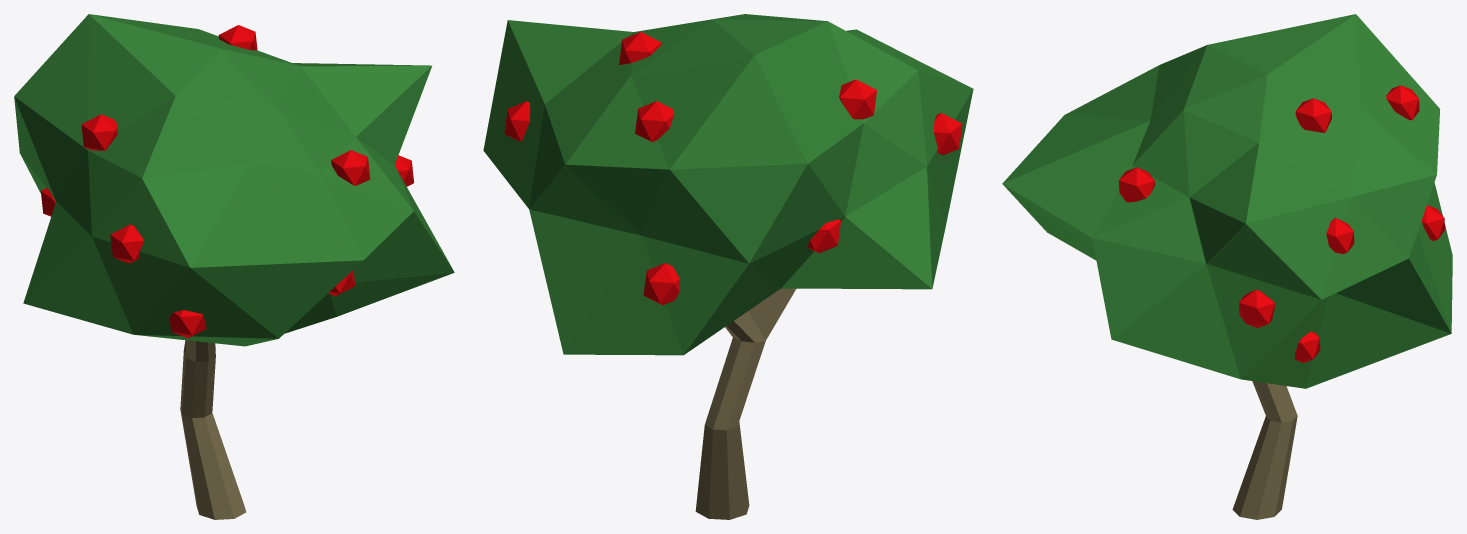
Rendered from Bush.glb.
3 views of the same model, side by side, from view 1: azimuth 30°, elevation 25°; view 2: azimuth 150°, elevation 25°; view 3: azimuth 270°, elevation 25° (orthographic). The views are drawn at different scales.
Parts seen in each view (by area): view 1: Leaves, Tree, Fruits; view 2: Leaves, Tree, Fruits; view 3: Leaves, Fruits, Tree.
Part boxes in pixels (x1=…): Leaves: x1=14, y1=14, x2=454, y2=346; Tree: x1=180, y1=340, x2=246, y2=519; Fruits: x1=40, y1=25, x2=413, y2=338; Leaves: x1=483, y1=14, x2=973, y2=355; Tree: x1=695, y1=288, x2=796, y2=519; Fruits: x1=504, y1=32, x2=962, y2=305; Leaves: x1=1002, y1=14, x2=1452, y2=388; Fruits: x1=1118, y1=85, x2=1444, y2=362; Tree: x1=1232, y1=381, x2=1297, y2=519.
Size of the model in its own units: 2.79 by 3.18 by 2.84.
